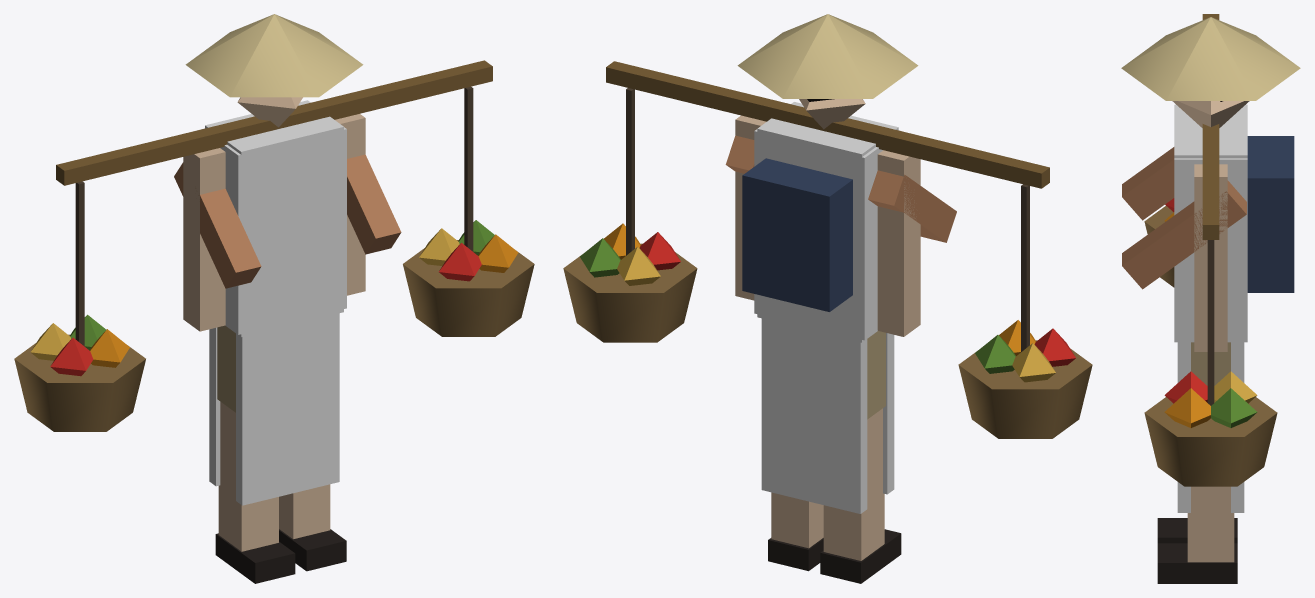
Rendered from hoi_an_walkers.glb.
3 views of the same model, side by side, from view 1: azimuth 30°, elevation 25°; view 2: azimuth 150°, elevation 25°; view 3: azimuth 270°, elevation 25° (orthographic).
Parts seen in each view (by area): view 1: HoiAnWalkers; view 2: HoiAnWalkers; view 3: HoiAnWalkers.
Part boxes in pixels (left/top/right/bottom): HoiAnWalkers: left=14, top=14, right=534, bottom=583; HoiAnWalkers: left=563, top=14, right=1092, bottom=583; HoiAnWalkers: left=1121, top=14, right=1300, bottom=583.
Size of the model in its own units: 1.71 by 1.8 by 0.54.
